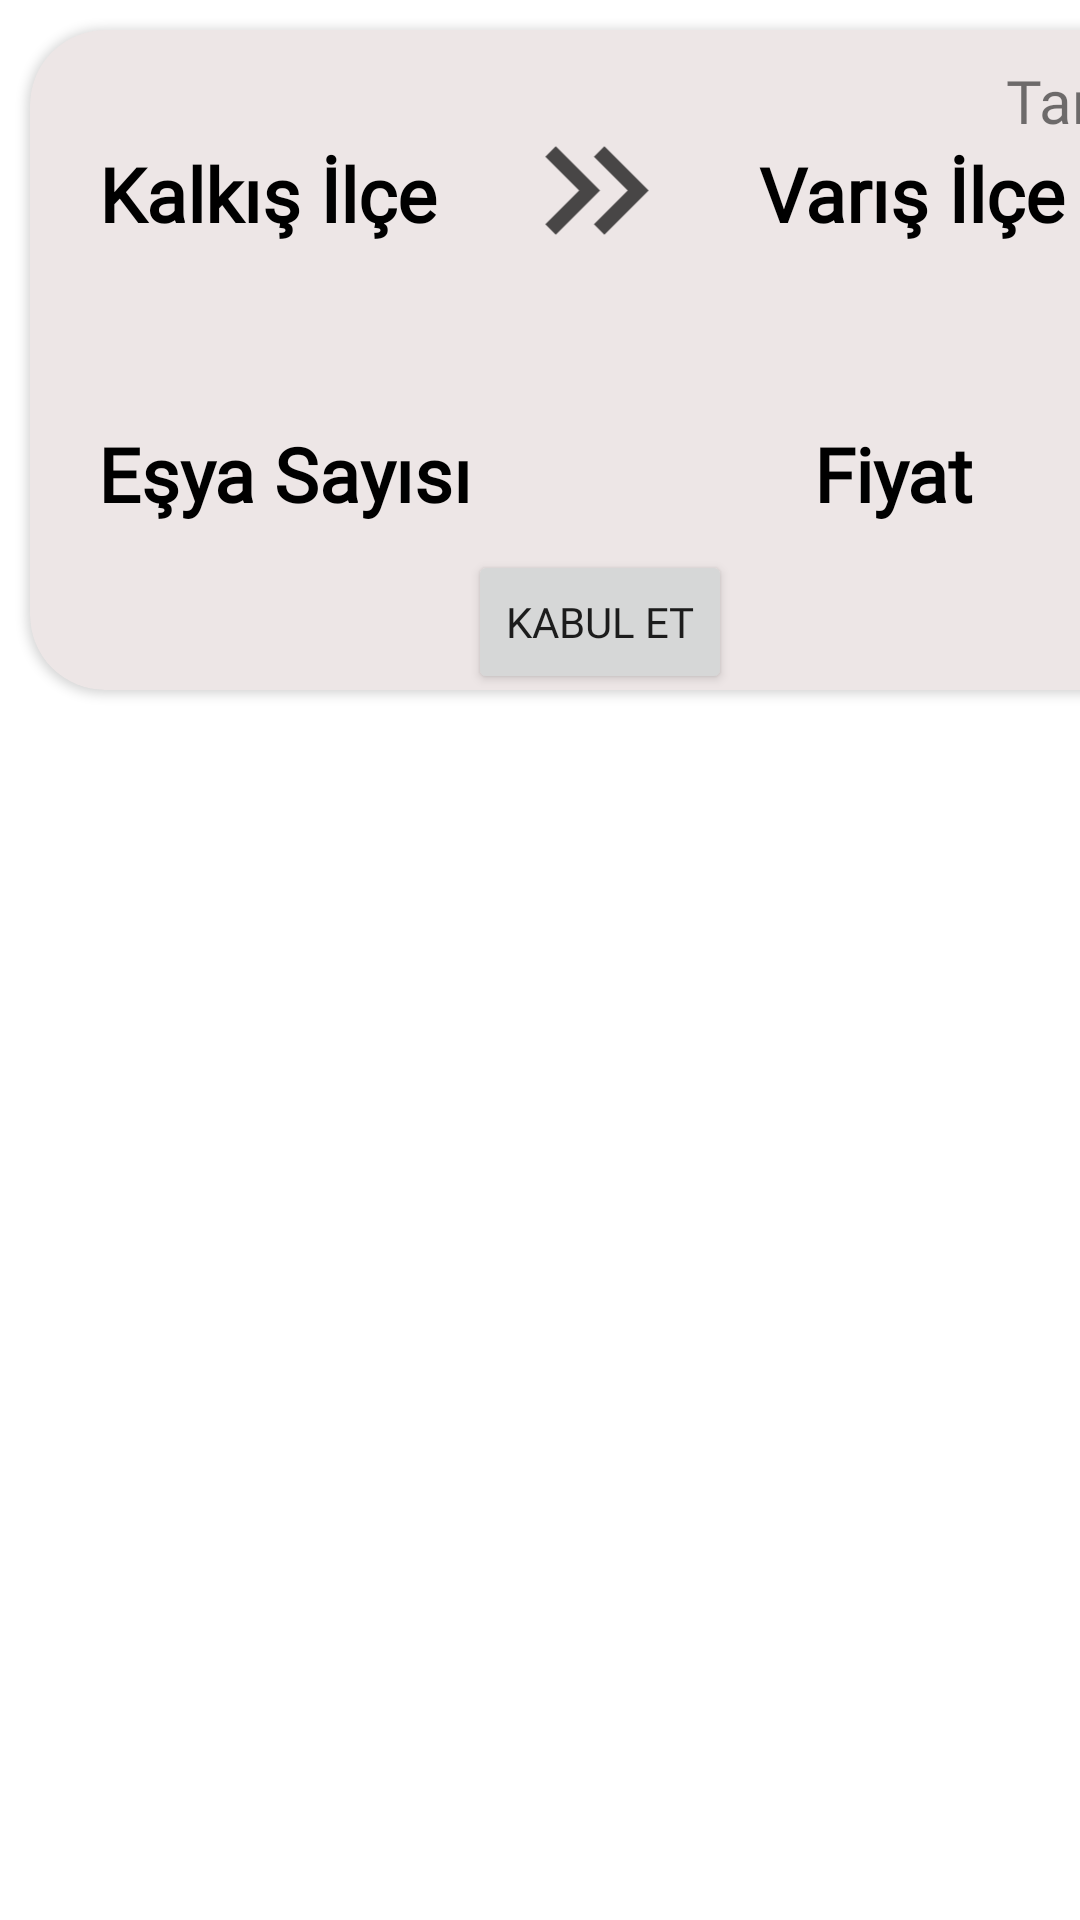

Icons on this 1080*1920 Android screen, each with its box as (x1=x1, y1=y1, x2=x2, y2=y2):
keyboard double arrow right: (x1=545, y1=146, x2=649, y2=235)
